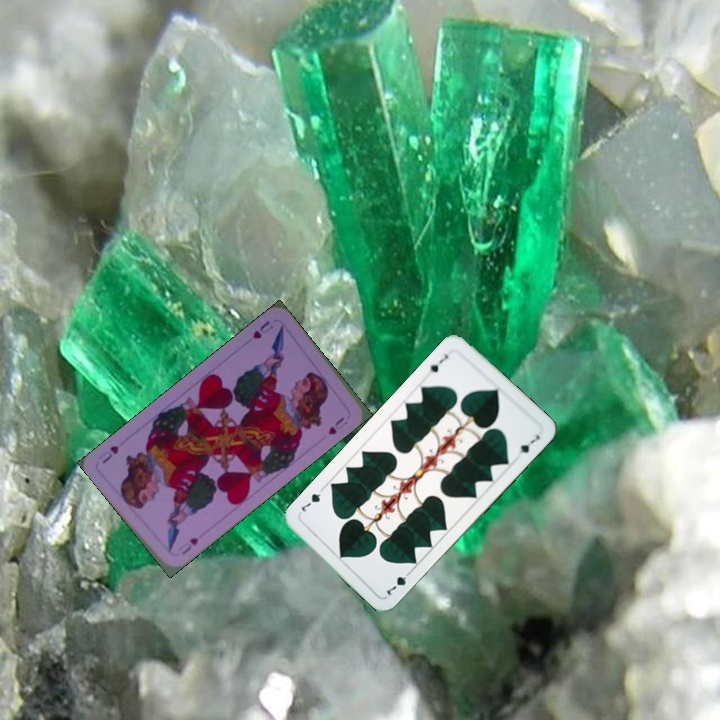G7: (383, 566, 414, 599), (422, 350, 451, 378)
HU: (249, 317, 276, 342), (174, 533, 201, 557)
